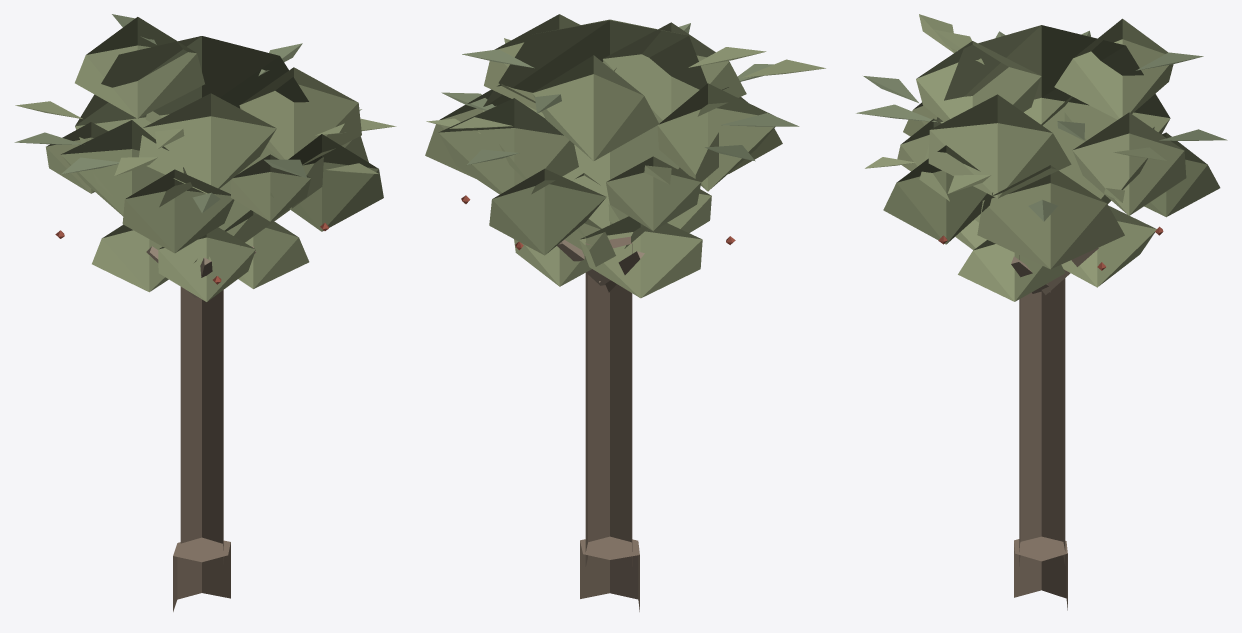
Rendered from shu.mumian@fruiting__winter.glb.
The picture shows the model from 3 angles, left to right: view 1: azimuth 30°, elevation 25°; view 2: azimuth 150°, elevation 25°; view 3: azimuth 270°, elevation 25°; orthographic projection. The views are drawn at different scales.
Parts seen in each view (by area): view 1: shu.mumian@fruiting__winter; view 2: shu.mumian@fruiting__winter; view 3: shu.mumian@fruiting__winter.
Boxes of the visible parts, x1,y1,x2,y2 form: shu.mumian@fruiting__winter: (14, 14, 396, 611); shu.mumian@fruiting__winter: (425, 14, 825, 611); shu.mumian@fruiting__winter: (856, 14, 1227, 610).
Size of the model in its own units: 18.3 by 30.34 by 17.84.
